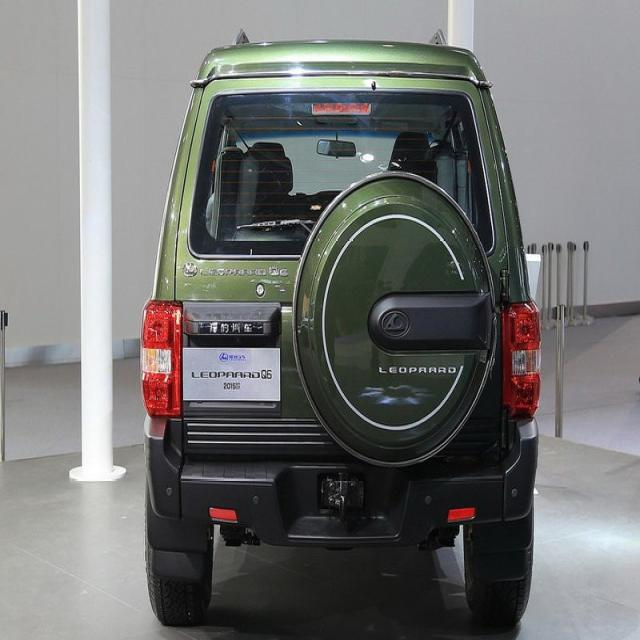back_glass: (186, 80, 496, 255)
back_left_side_light: (138, 296, 184, 422)
back_right_side_light: (499, 294, 541, 418)
rear_bumper: (142, 413, 537, 553)
